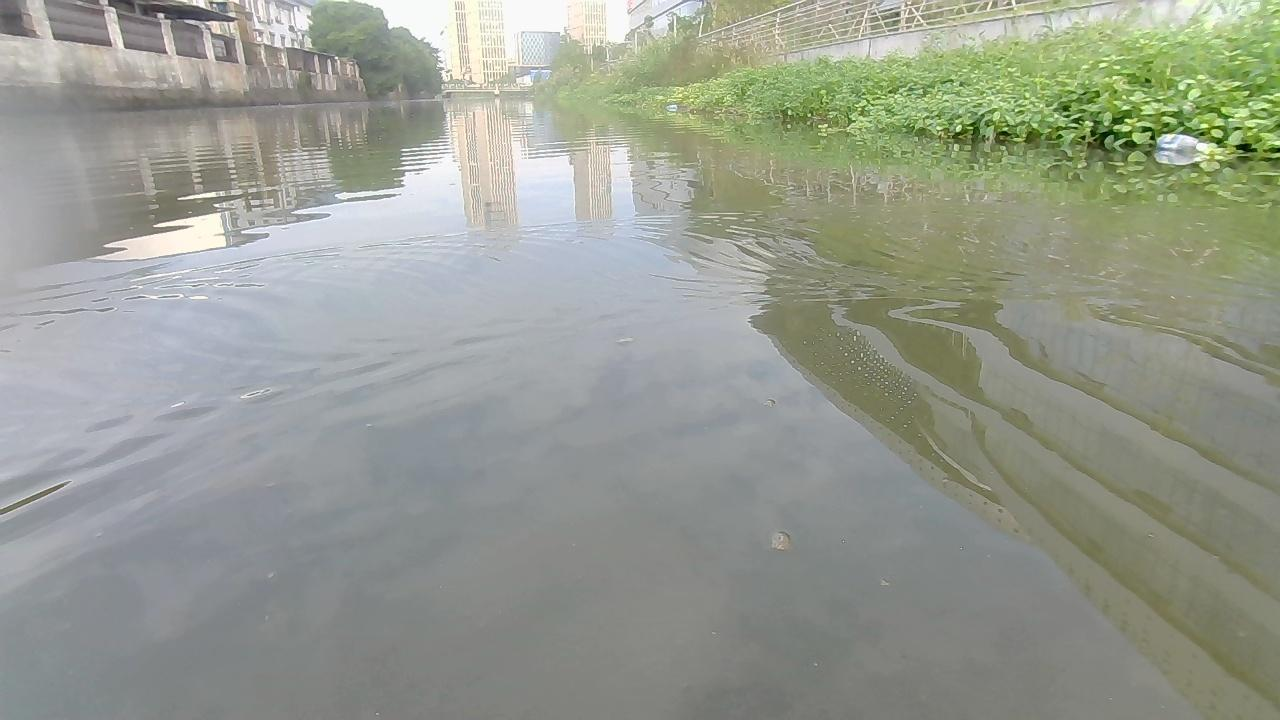bottle: (1156, 130, 1211, 152)
